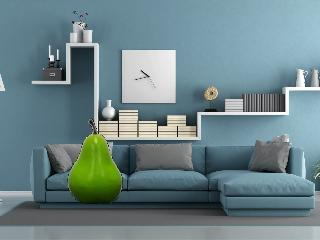pear: (69, 120, 122, 205)
